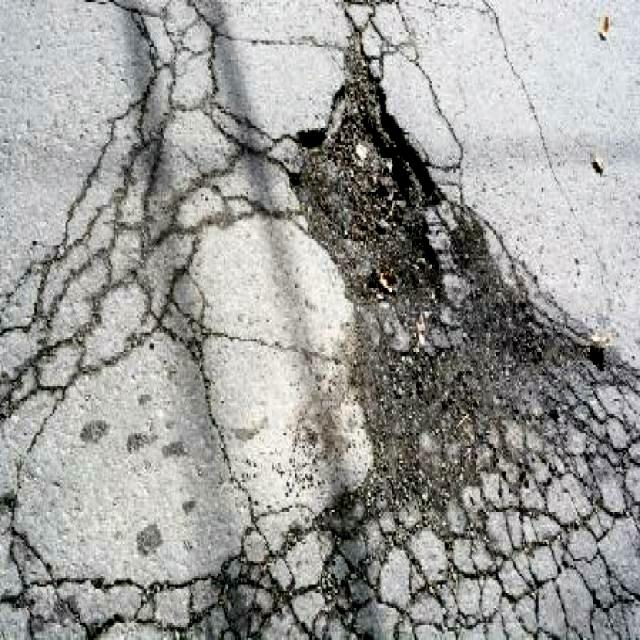Pothole: (285, 28, 450, 311)
